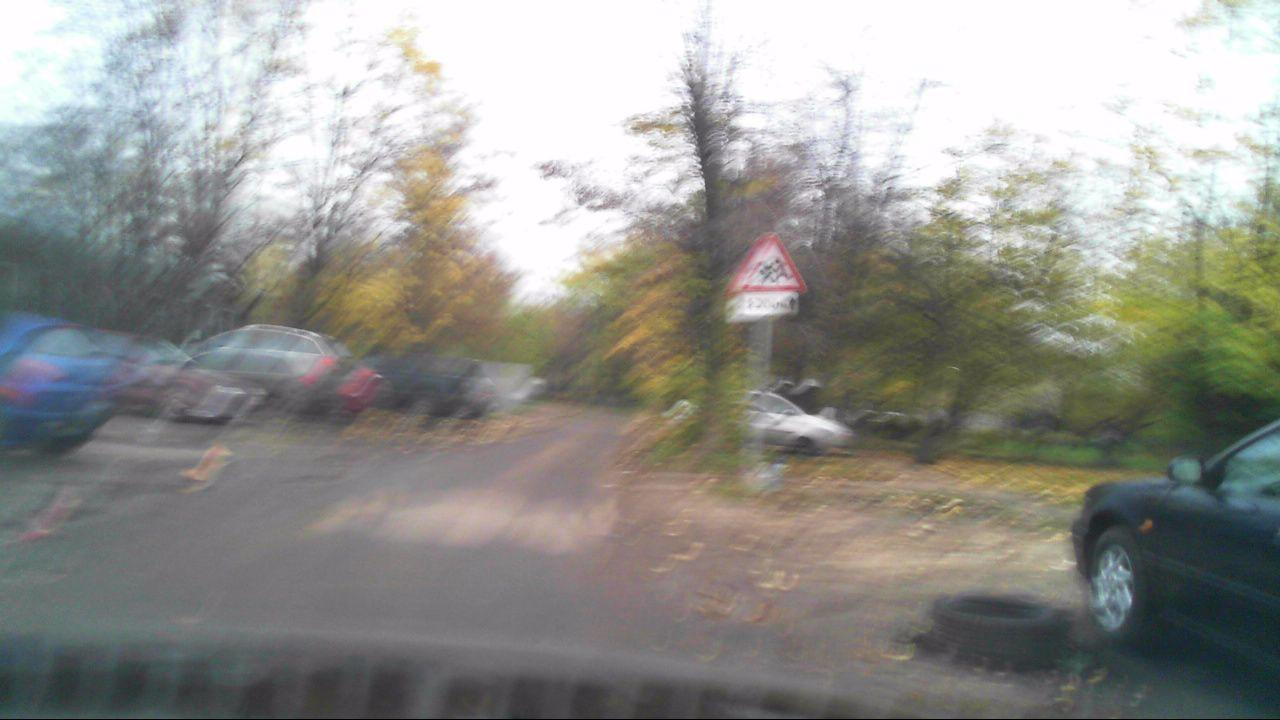1_23: (726, 228, 807, 291)
8_2_1: (726, 291, 798, 323)
